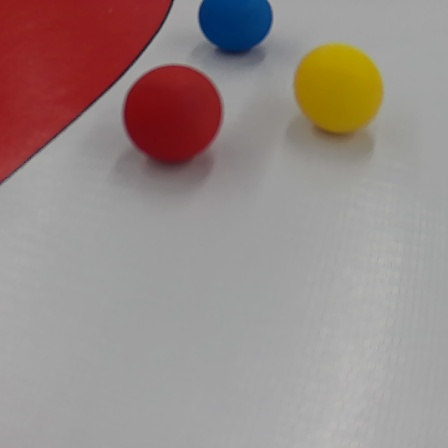blue: (199, 3, 275, 50)
red: (121, 62, 225, 166)
red_base: (0, 0, 172, 191)
yellow: (291, 40, 385, 137)
